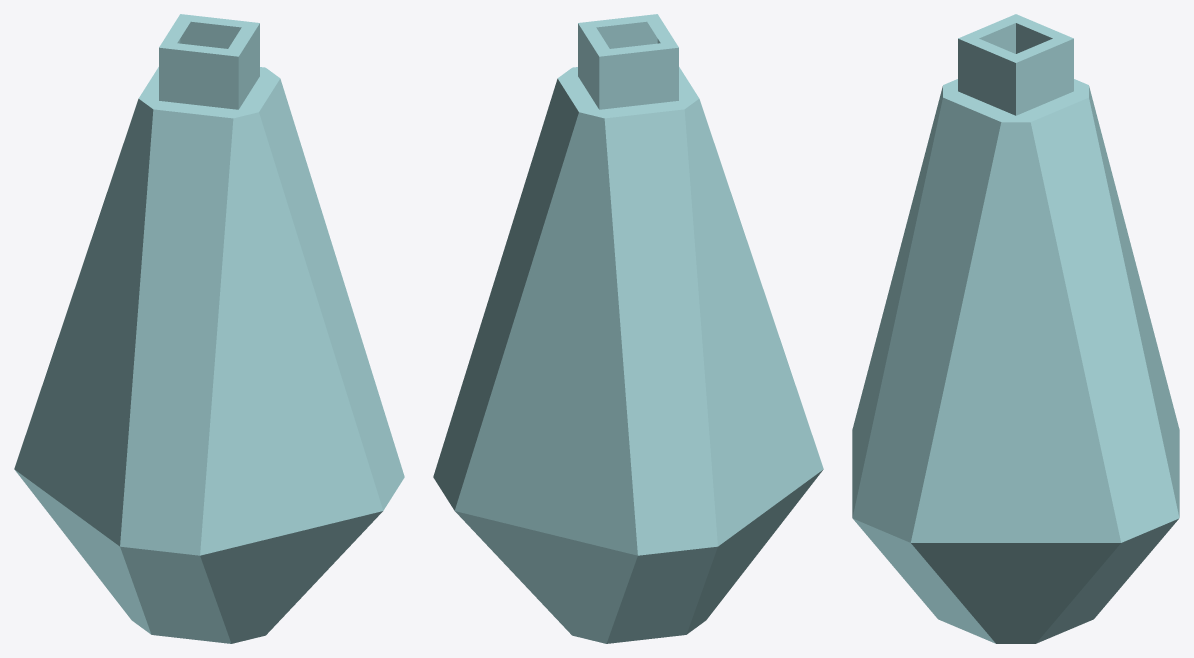
Rendered from prop_bottle_3.glb.
3 renders of one model, left to right at view 1: azimuth 30°, elevation 25°; view 2: azimuth 150°, elevation 25°; view 3: azimuth 270°, elevation 25°, orthographic.
Visible parts, largest first — view 1: Props with out snow_Bottle_3_0; view 2: Props with out snow_Bottle_3_0; view 3: Props with out snow_Bottle_3_0.
Boxes of the visible parts, x1,y1,x2,y2 form: Props with out snow_Bottle_3_0: (14,14,404,643); Props with out snow_Bottle_3_0: (433,14,823,643); Props with out snow_Bottle_3_0: (852,14,1179,643).
Size of the model in its own units: 0.15 by 0.2898 by 0.15.
